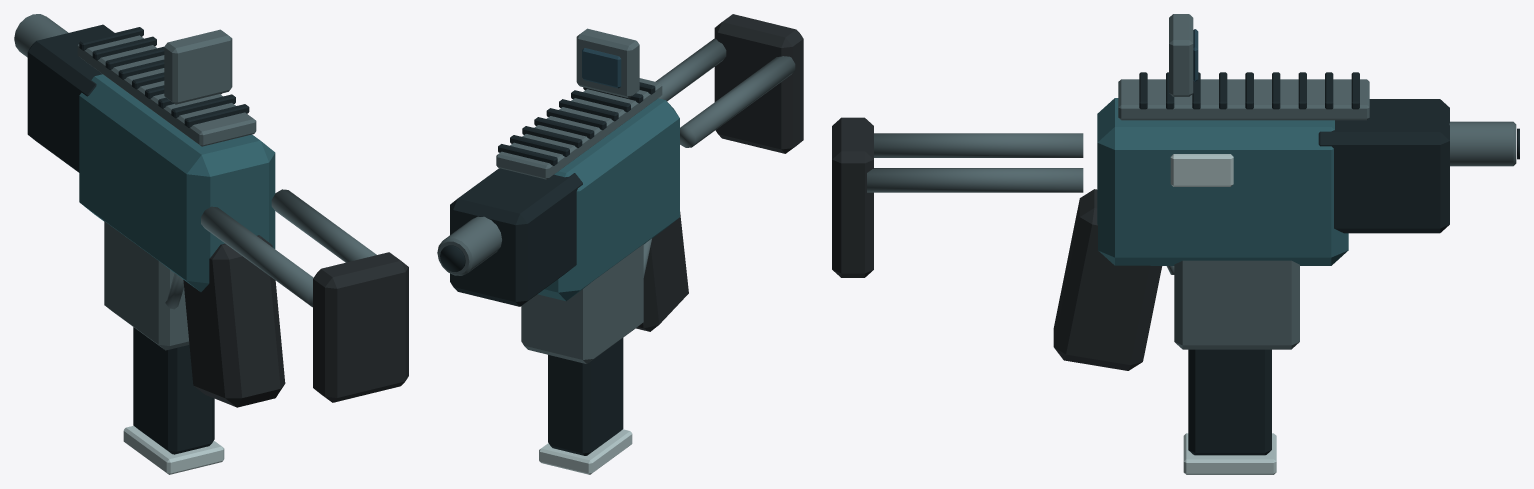
The model's file is vector-smg.glb.
3 views of the same model, side by side, from view 1: azimuth 30°, elevation 25°; view 2: azimuth 150°, elevation 25°; view 3: azimuth 270°, elevation 25° (orthographic). The views are drawn at different scales.
Parts seen in each view (by area): view 1: Compact receiver, Stock butt, Textured pistol grip.004, Removable magazine.003, Handguard, Lower magazine well, Optics rail.002, Sight hood, Folding stock rail, Folding stock rail.001, Magazine base.001, Compact barrel (+7 smaller); view 2: Compact receiver, Handguard, Stock butt, Lower magazine well, Removable magazine.003, Optics rail.002, Textured pistol grip.004, Folding stock rail, Sight hood, Compact barrel, Magazine base.001, Folding stock rail.001 (+9 smaller); view 3: Compact receiver, Handguard, Textured pistol grip.004, Lower magazine well, Removable magazine.003, Optics rail.002, Stock butt, Folding stock rail.001, Folding stock rail, Compact barrel, Magazine base.001, Bolt window (+1 smaller).
Part boxes in pixels (x1,y1,x2,y2): Compact receiver: (79,74,275,291); Stock butt: (313,252,408,402); Textured pistol grip.004: (183,235,285,407); Removable magazine.003: (133,327,214,454); Handguard: (27,24,114,172); Lower magazine well: (104,221,189,350); Optics rail.002: (77,35,256,146); Sight hood: (164,29,232,104); Folding stock rail: (201,206,313,307); Folding stock rail.001: (271,189,376,262); Magazine base.001: (123,425,224,474); Compact barrel: (14,14,68,57); Compact receiver: (538,98,679,301); Handguard: (450,168,582,306); Stock butt: (714,14,803,153); Lower magazine well: (521,244,643,363); Removable magazine.003: (548,338,623,455); Optics rail.002: (496,78,662,179); Textured pistol grip.004: (636,212,688,331); Folding stock rail: (680,56,795,147); Sight hood: (576,28,639,98); Compact barrel: (437,216,501,275); Magazine base.001: (539,429,632,474); Folding stock rail.001: (655,38,726,101); Compact receiver: (1097,98,1348,265); Handguard: (1318,99,1449,233); Textured pistol grip.004: (1053,189,1162,370); Lower magazine well: (1174,260,1299,349); Removable magazine.003: (1188,349,1271,455); Optics rail.002: (1118,79,1369,120); Stock butt: (832,117,873,277); Folding stock rail.001: (867,168,1083,192); Folding stock rail: (874,133,1083,157); Compact barrel: (1449,121,1516,166); Magazine base.001: (1183,433,1276,474); Bolt window: (1170,154,1233,186).
Size of the model in its own units: 0.1611 by 0.6875 by 0.985.
